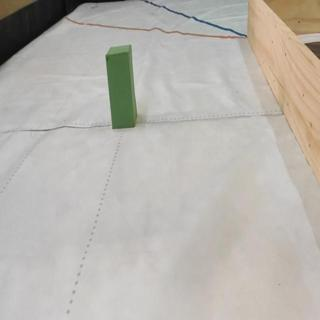greenbox: (107, 47, 138, 129)
